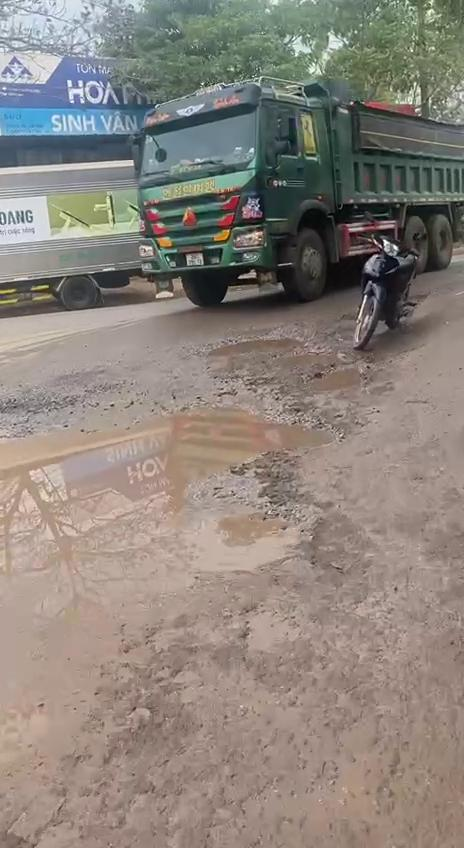pothole: (0, 395, 350, 591), (204, 329, 385, 395)
